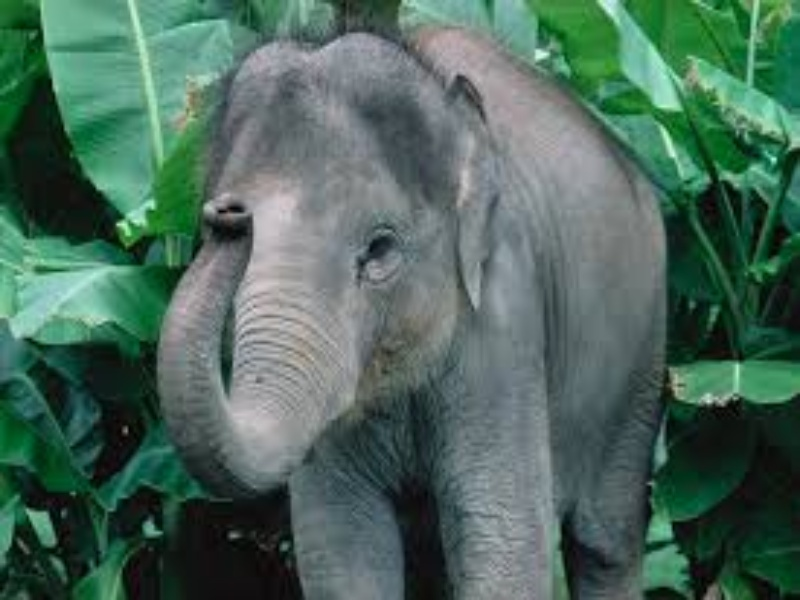elephant: (147, 18, 697, 600)
